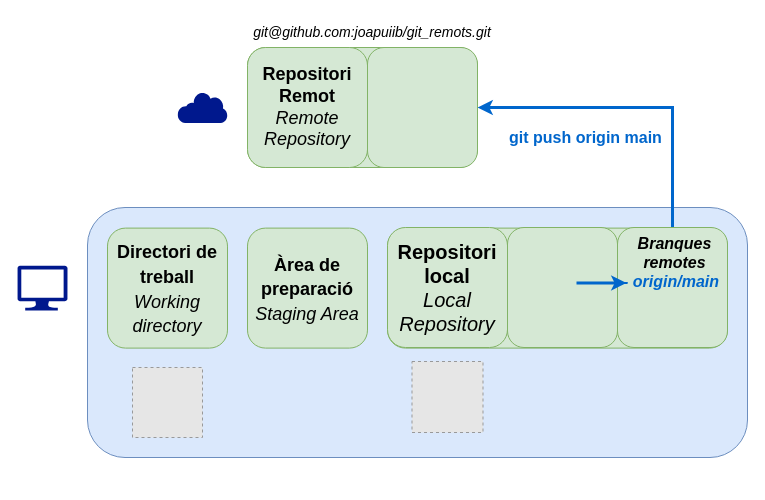
The diagram is 765 pixels wide and 500 high, and some of its shapes have lost their labels. Grey dashed boxes stand in for pictures. Each missing label, with the box of its shape:
Branques - main: (366, 46, 478, 168)
Branques locals - main: (506, 226, 618, 348)
Local - Entorn de desenvolupament: (86, 206, 748, 458)
